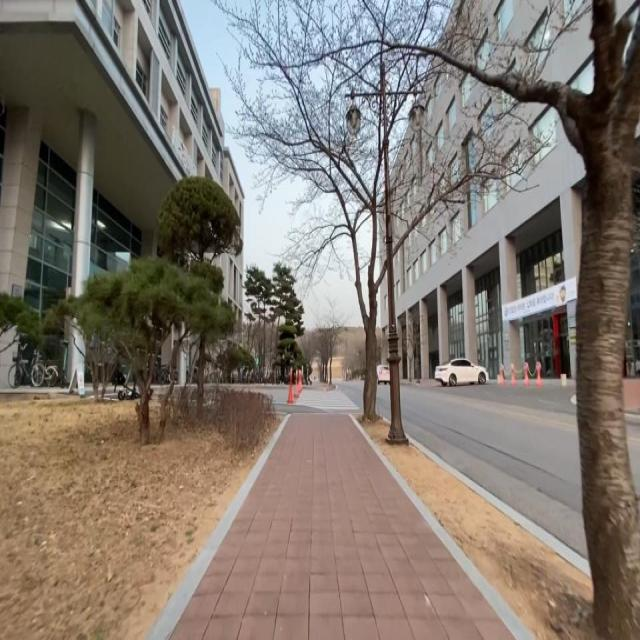sidewalk: (168, 404, 516, 640), (624, 379, 640, 409), (306, 382, 336, 391)
